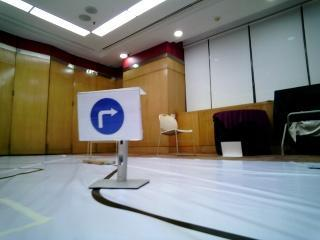right: (77, 92, 140, 139)
